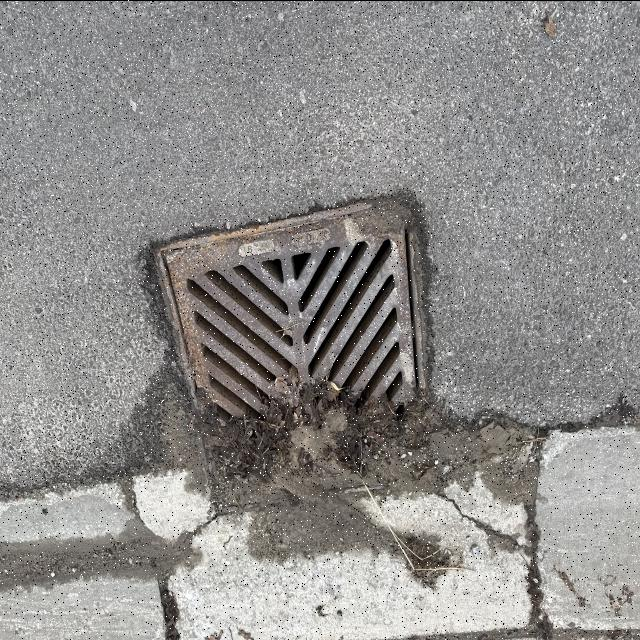Manhole: (162, 194, 432, 460)
